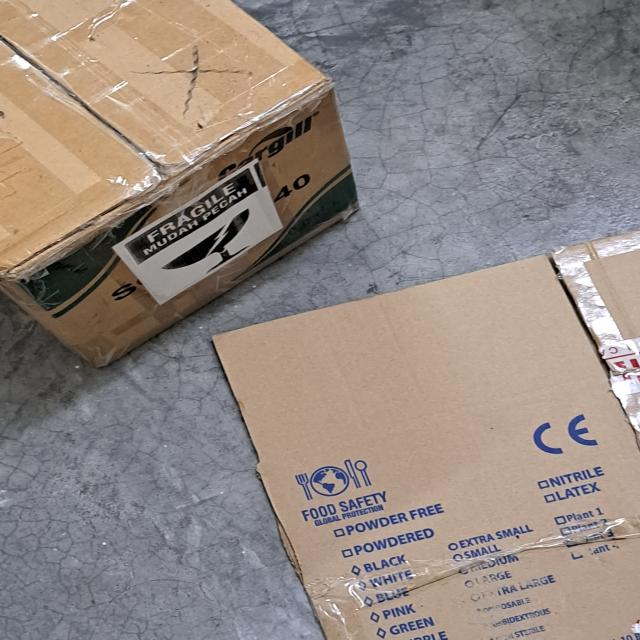cardboard: (211, 230, 640, 640), (0, 0, 356, 365)
